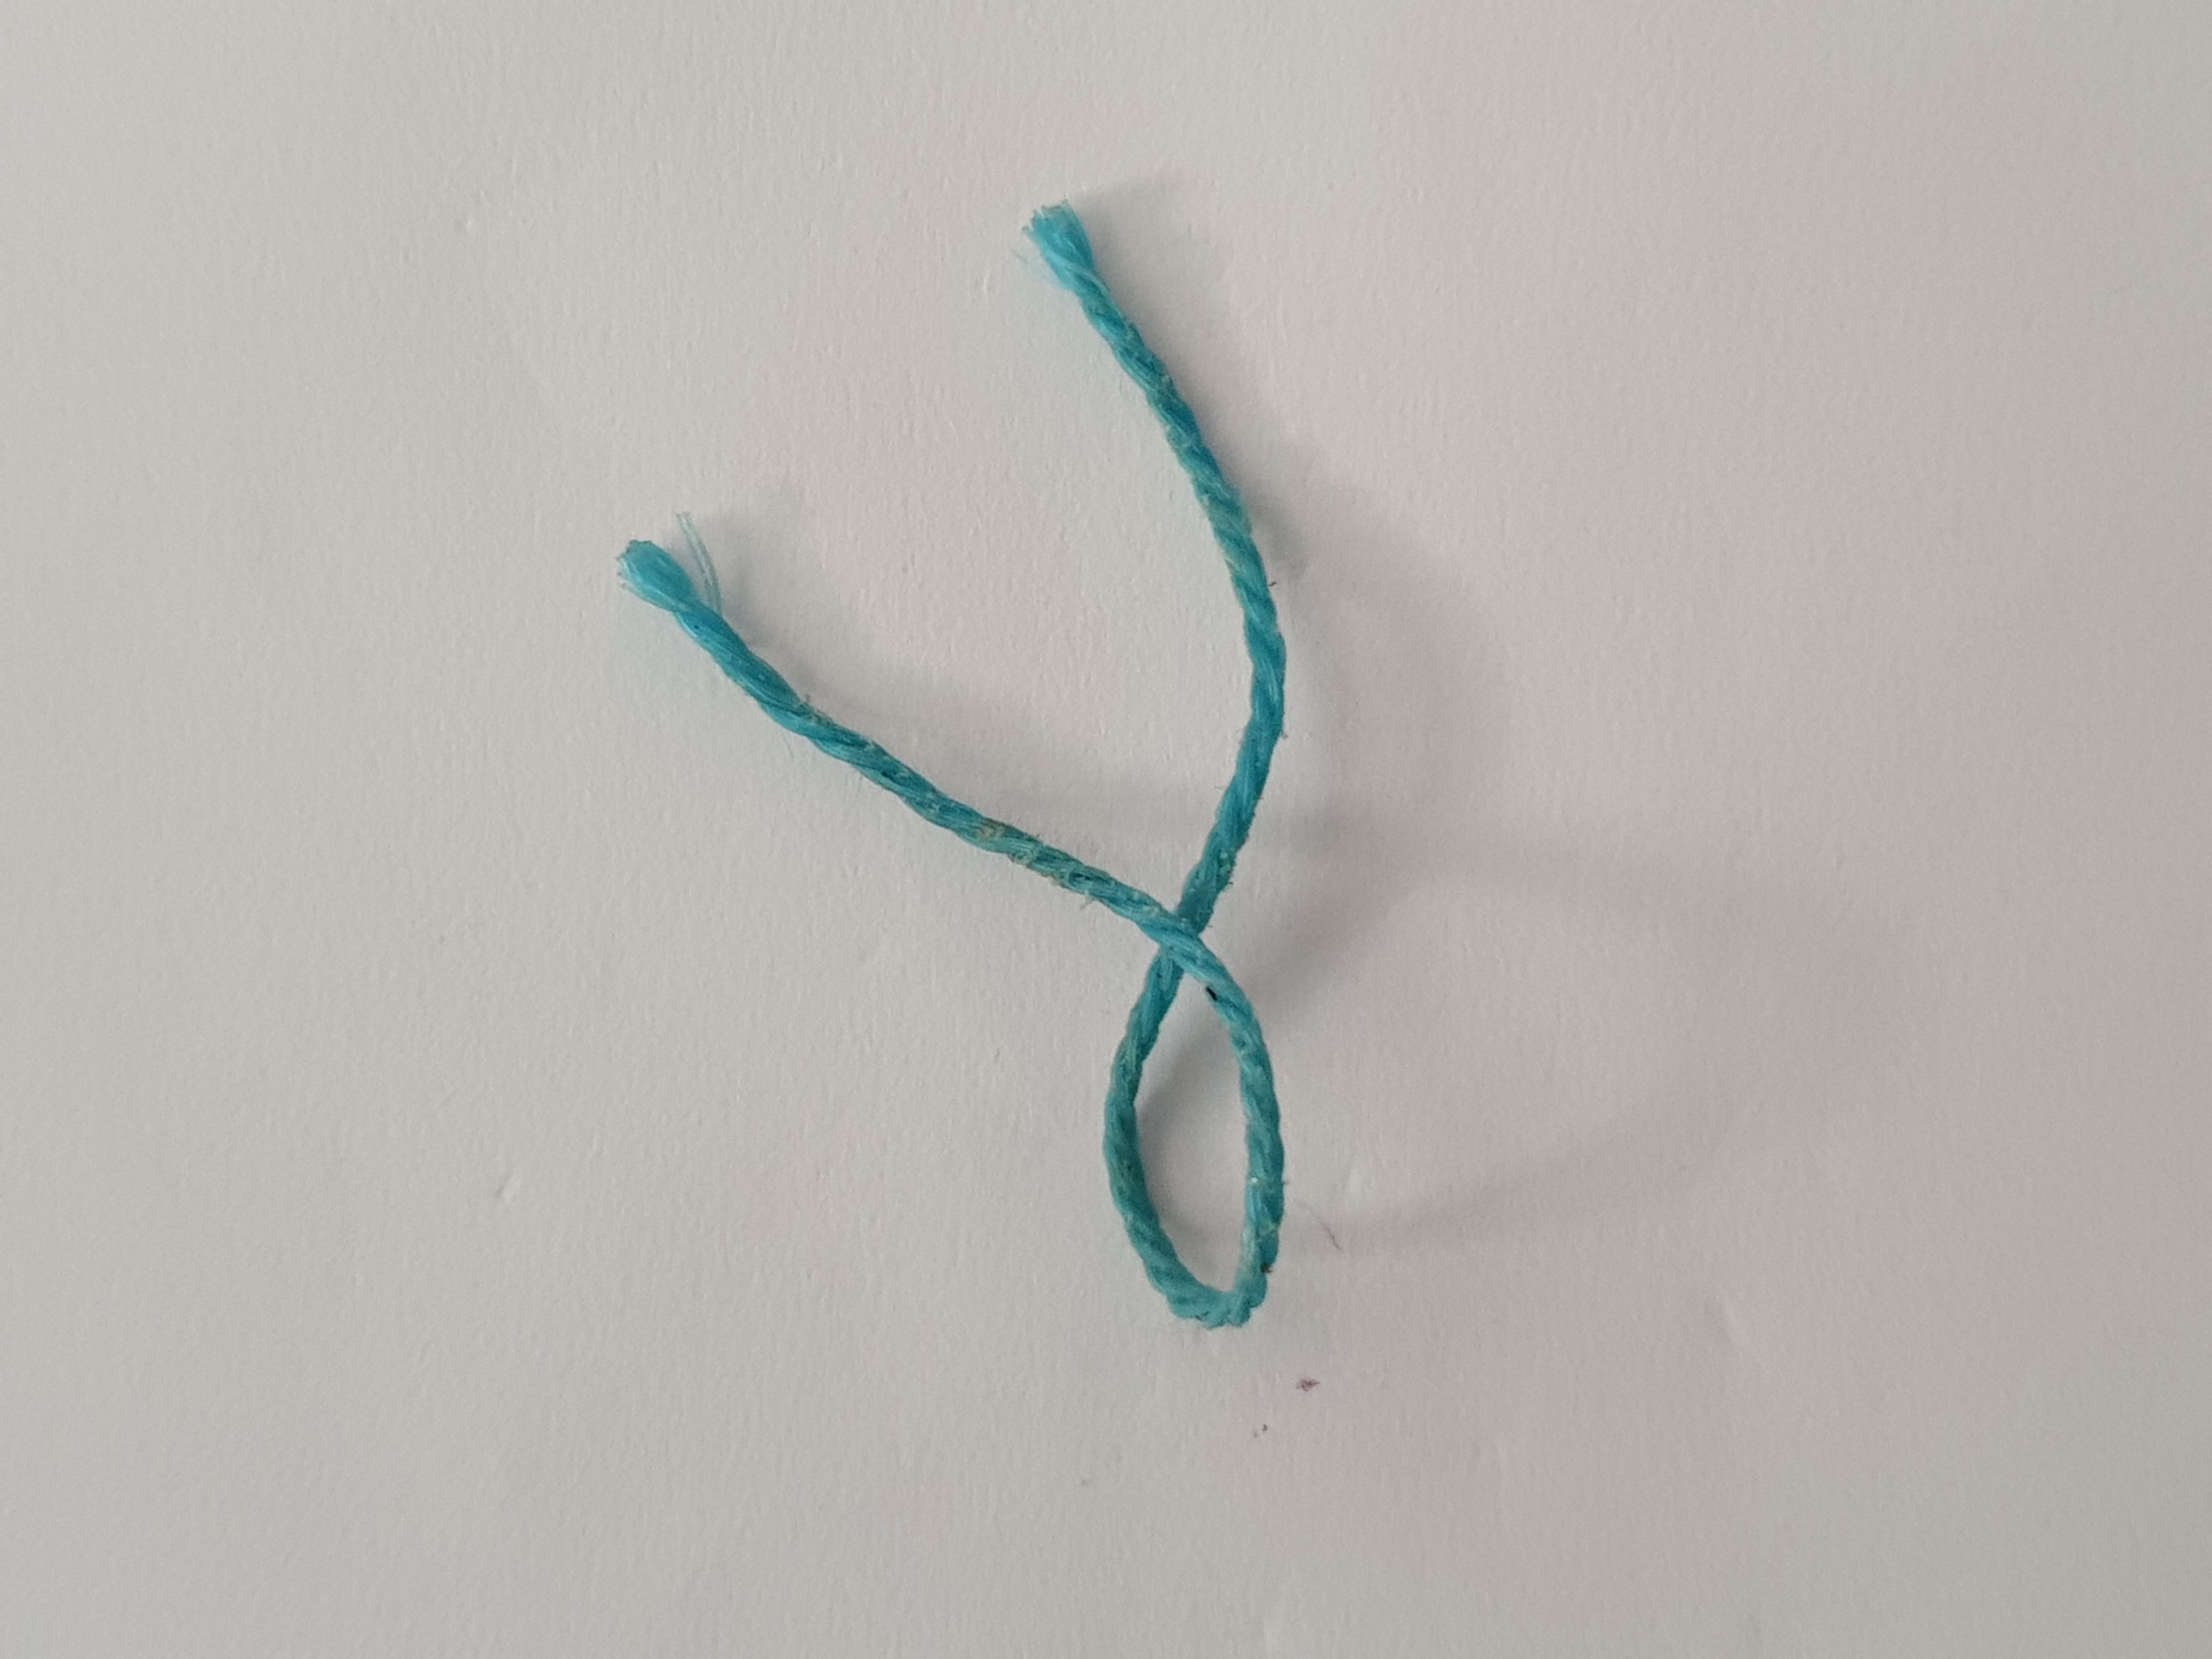thread: (552, 153, 1413, 1366)
